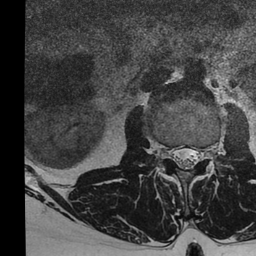CCS_normal: (181, 135, 191, 177)
LFS_normal: (200, 135, 210, 169)
LLS_normal: (192, 135, 201, 173)
RFS_normal: (160, 135, 170, 168)
RLS_normal: (170, 137, 181, 171)
